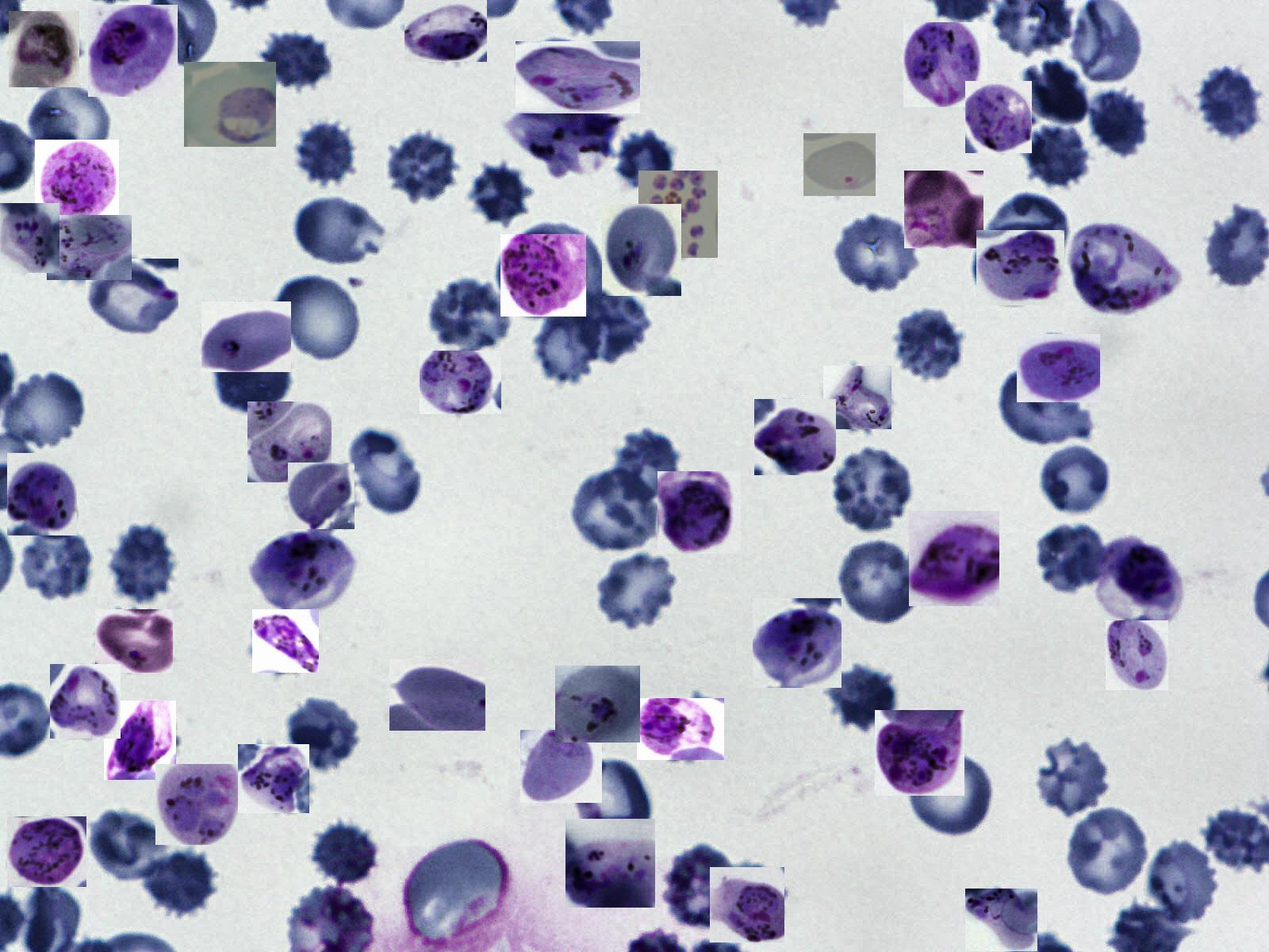Infected: (1072, 221, 1180, 319), (504, 94, 619, 178), (516, 41, 640, 113), (251, 527, 352, 615), (909, 511, 999, 606), (88, 6, 178, 97), (753, 598, 842, 688), (565, 819, 655, 908), (1097, 534, 1184, 624), (184, 62, 276, 147), (875, 710, 964, 796), (602, 205, 681, 297), (903, 22, 987, 107), (35, 140, 119, 225), (500, 234, 586, 317), (86, 259, 178, 336), (156, 764, 242, 845), (638, 171, 718, 258), (389, 659, 485, 731), (658, 471, 741, 554), (247, 401, 332, 482), (976, 230, 1064, 305), (555, 666, 640, 743), (201, 301, 291, 372), (754, 399, 836, 475), (904, 171, 983, 248), (520, 730, 602, 803), (7, 453, 77, 536), (104, 701, 176, 780), (1017, 334, 1100, 402), (7, 816, 86, 887), (710, 867, 784, 942), (47, 216, 132, 281), (637, 698, 724, 760), (50, 664, 121, 739), (9, 11, 79, 87), (404, 0, 487, 63), (420, 351, 501, 414), (95, 609, 173, 673), (238, 744, 309, 813), (965, 81, 1032, 153), (803, 133, 876, 196), (288, 463, 355, 530), (965, 889, 1037, 951), (1106, 620, 1168, 690), (252, 609, 319, 673), (823, 366, 891, 429), (0, 203, 59, 273)
Uninfected: (405, 835, 510, 946), (514, 224, 608, 319), (565, 463, 663, 552), (905, 743, 996, 838), (1064, 804, 1152, 898), (996, 368, 1096, 446), (289, 194, 393, 267), (277, 274, 364, 361), (25, 81, 113, 167), (836, 539, 922, 626), (832, 211, 920, 296), (829, 447, 917, 529), (592, 550, 681, 630), (573, 761, 658, 844), (661, 843, 741, 930), (283, 692, 364, 773), (978, 194, 1069, 266), (349, 429, 424, 516), (427, 278, 515, 352), (136, 844, 218, 920), (1037, 739, 1114, 819), (6, 370, 85, 447), (89, 807, 169, 879), (1194, 60, 1265, 141), (573, 290, 654, 361), (385, 130, 461, 205), (1034, 520, 1110, 595), (892, 306, 966, 382), (110, 526, 179, 605), (1149, 843, 1217, 923), (258, 24, 335, 94), (215, 344, 291, 414), (20, 525, 90, 601), (1040, 445, 1114, 516), (825, 662, 899, 733), (535, 308, 602, 386), (310, 819, 384, 888), (1021, 117, 1091, 186), (1084, 87, 1152, 158), (1021, 60, 1091, 126), (613, 430, 681, 497), (291, 121, 356, 188), (470, 163, 532, 228), (613, 128, 674, 190)
